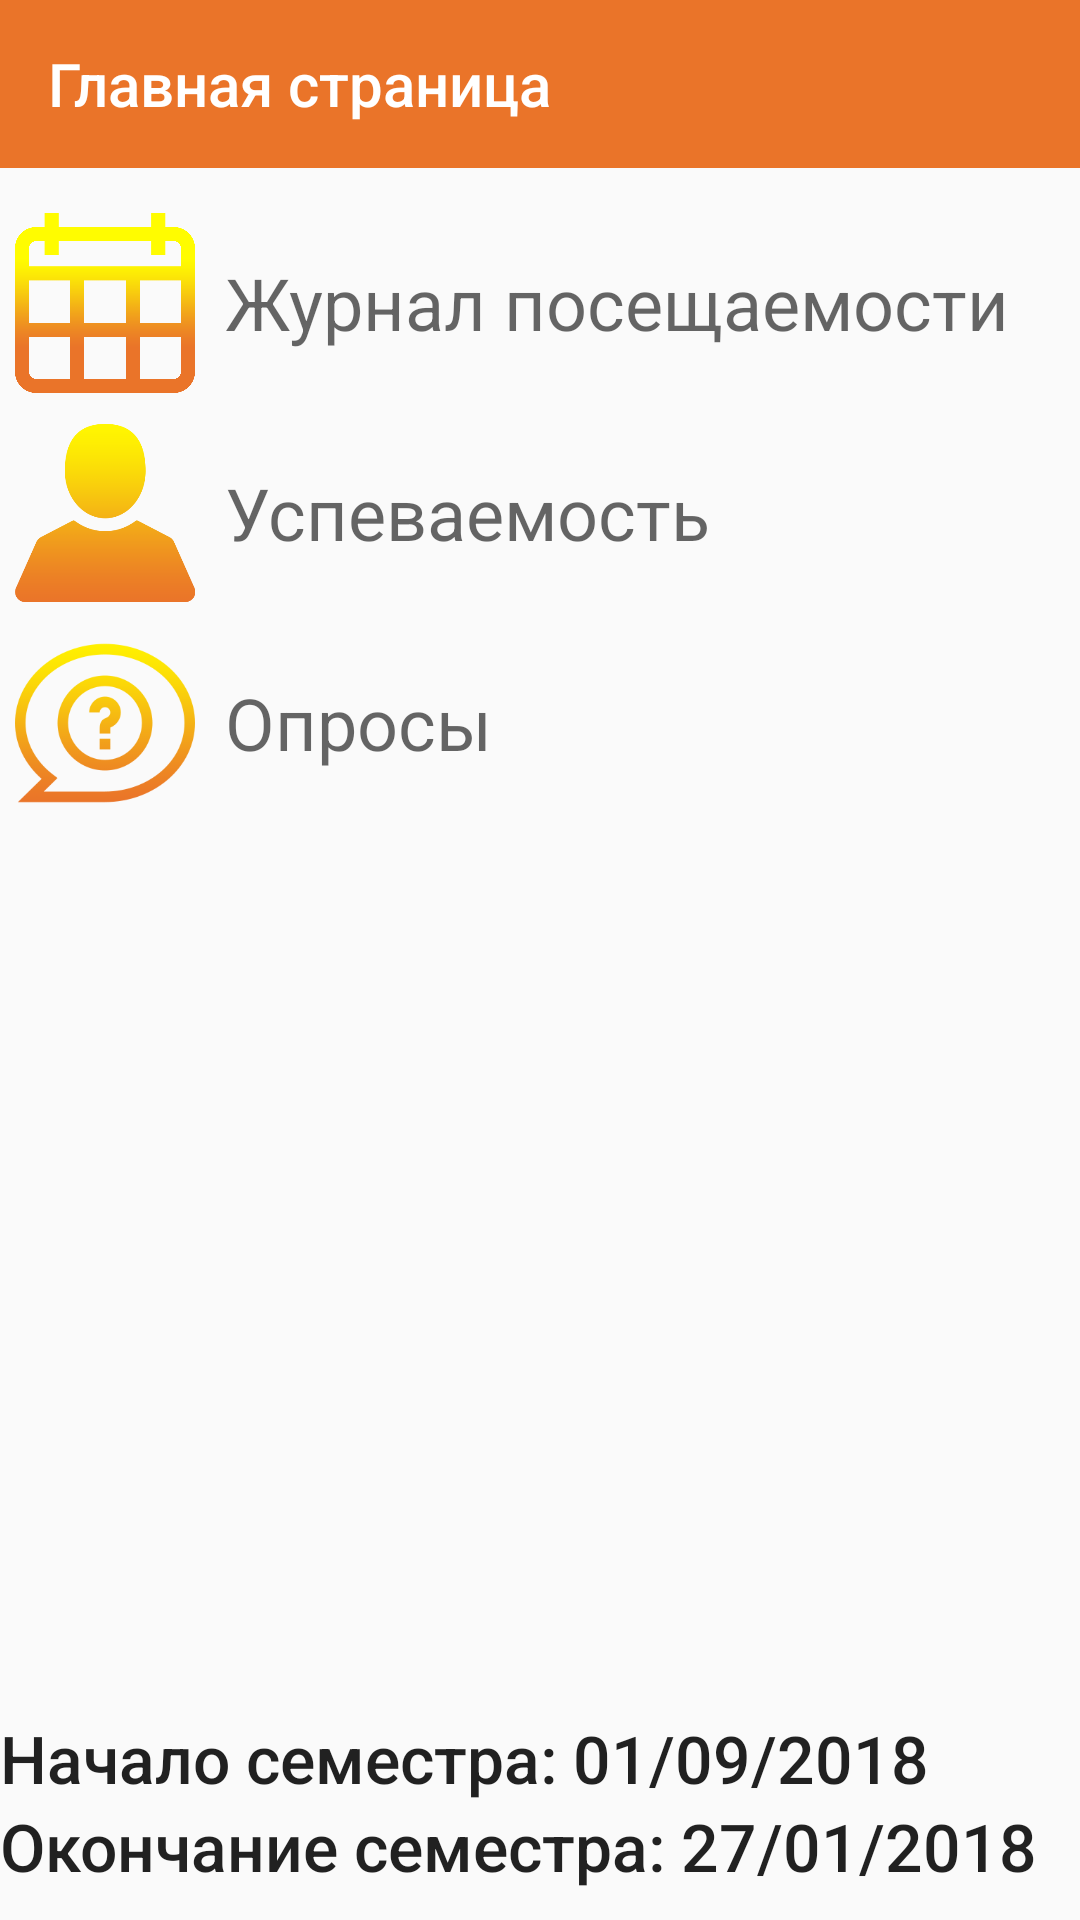

Icon click points for this 1080x1920 phone screenshot, format [x,y]:
journal icon: [105,303]
question: [105,723]
user: [105,513]
